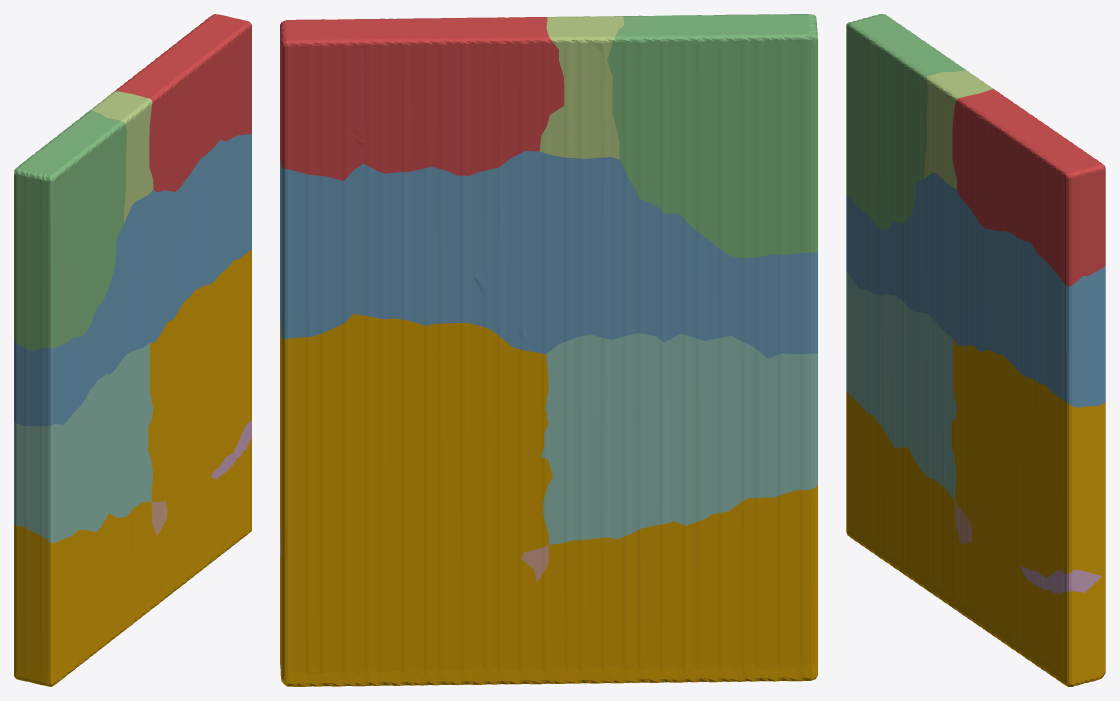
Rendered from fractured_2_8pcs.glb.
3 views of the same model, side by side, from view 1: azimuth 30°, elevation 25°; view 2: azimuth 150°, elevation 25°; view 3: azimuth 270°, elevation 25° (orthographic). The views are drawn at different scales.
Parts seen in each view (by area): view 1: piece_0.obj, piece_2.obj, piece_3.obj, piece_4.obj, piece_1.obj, piece_5.obj, piece_6.obj, piece_7.obj; view 2: piece_0.obj, piece_2.obj, piece_4.obj, piece_3.obj, piece_1.obj, piece_5.obj; view 3: piece_0.obj, piece_2.obj, piece_1.obj, piece_3.obj, piece_4.obj, piece_5.obj, piece_6.obj, piece_7.obj.
Part boxes in pixels (x1,y1,x2,y2): piece_0.obj: [14, 249, 251, 686]; piece_2.obj: [14, 133, 251, 426]; piece_3.obj: [14, 110, 126, 350]; piece_4.obj: [14, 343, 153, 543]; piece_1.obj: [114, 14, 251, 192]; piece_5.obj: [90, 91, 153, 223]; piece_6.obj: [210, 420, 251, 479]; piece_7.obj: [151, 501, 167, 535]; piece_0.obj: [280, 313, 817, 686]; piece_2.obj: [280, 151, 817, 358]; piece_4.obj: [541, 333, 817, 544]; piece_3.obj: [607, 14, 817, 258]; piece_1.obj: [280, 17, 564, 180]; piece_5.obj: [539, 16, 624, 159]; piece_0.obj: [846, 339, 1105, 686]; piece_2.obj: [846, 173, 1105, 407]; piece_1.obj: [952, 89, 1105, 286]; piece_3.obj: [846, 14, 966, 229]; piece_4.obj: [846, 271, 956, 499]; piece_5.obj: [924, 70, 993, 189]; piece_6.obj: [1020, 566, 1101, 595]; piece_7.obj: [954, 500, 972, 544].
Bounding box in the file's own units: 0.6757 × 1 × 0.4568.
